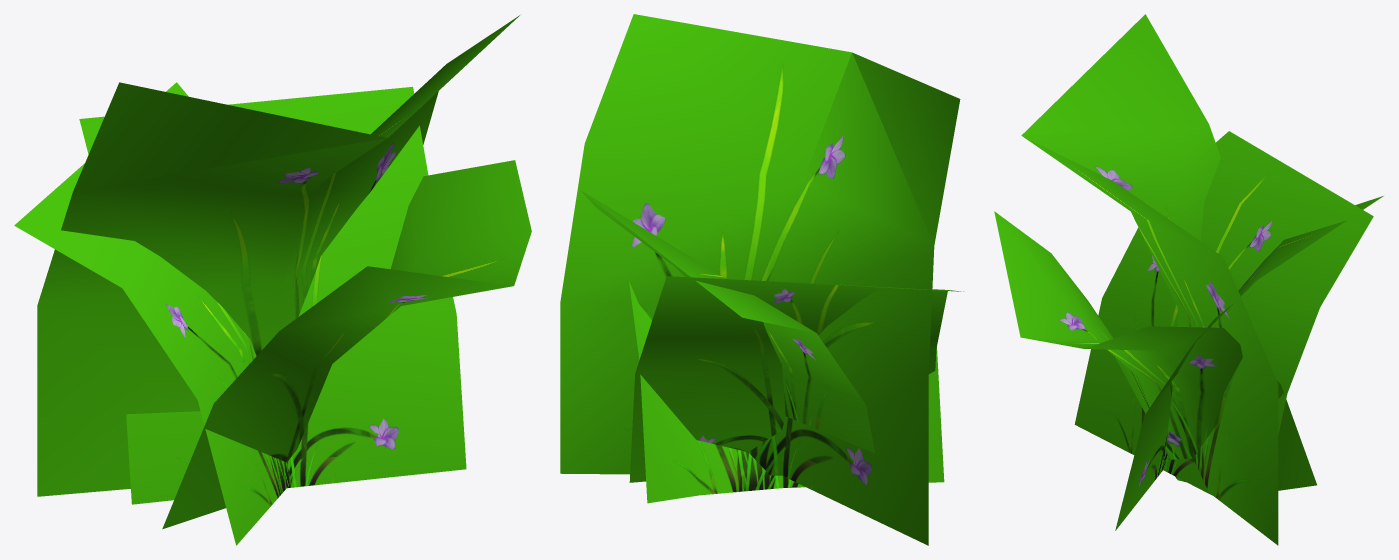
File: flowerplant_lod0.fbx
The picture shows the model from 3 angles, left to right: view 1: azimuth 30°, elevation 25°; view 2: azimuth 150°, elevation 25°; view 3: azimuth 270°, elevation 25°; orthographic projection. The views are drawn at different scales.
Parts seen in each view (by area): view 1: Mesh Object; view 2: Mesh Object; view 3: Mesh Object.
Part boxes in pixels (x1,y1,x2,y2): Mesh Object: (14,15,531,545); Mesh Object: (560,14,963,545); Mesh Object: (994,14,1383,545).
Bounding box in the file's own units: 2.31 × 2.27 × 2.05.
